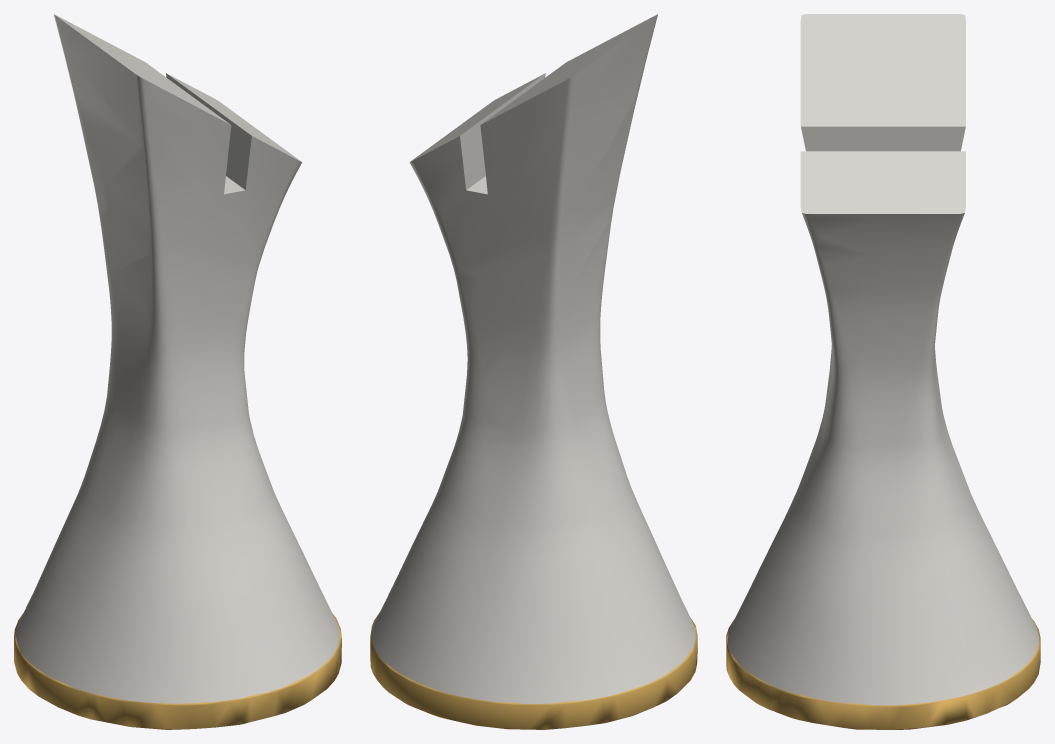
Rendered from 04_strelec_bila.glb.
3 views of the same model, side by side, from view 1: azimuth 30°, elevation 25°; view 2: azimuth 150°, elevation 25°; view 3: azimuth 270°, elevation 25° (orthographic). The views are drawn at different scales.
Parts seen in each view (by area): view 1: 04_strelec_telo_0, 04_strelec_podstavec; view 2: 04_strelec_telo_0, 04_strelec_podstavec; view 3: 04_strelec_telo_0, 04_strelec_podstavec.
Part boxes in pixels (box(x1,y1,x2,y2)): 04_strelec_telo_0: box(16, 14, 339, 703); 04_strelec_podstavec: box(14, 614, 341, 729); 04_strelec_telo_0: box(371, 14, 695, 703); 04_strelec_podstavec: box(370, 613, 697, 729); 04_strelec_telo_0: box(728, 14, 1038, 705); 04_strelec_podstavec: box(726, 619, 1040, 729).
Bounding box in the file's own units: 0.042 × 0.09 × 0.0419.
